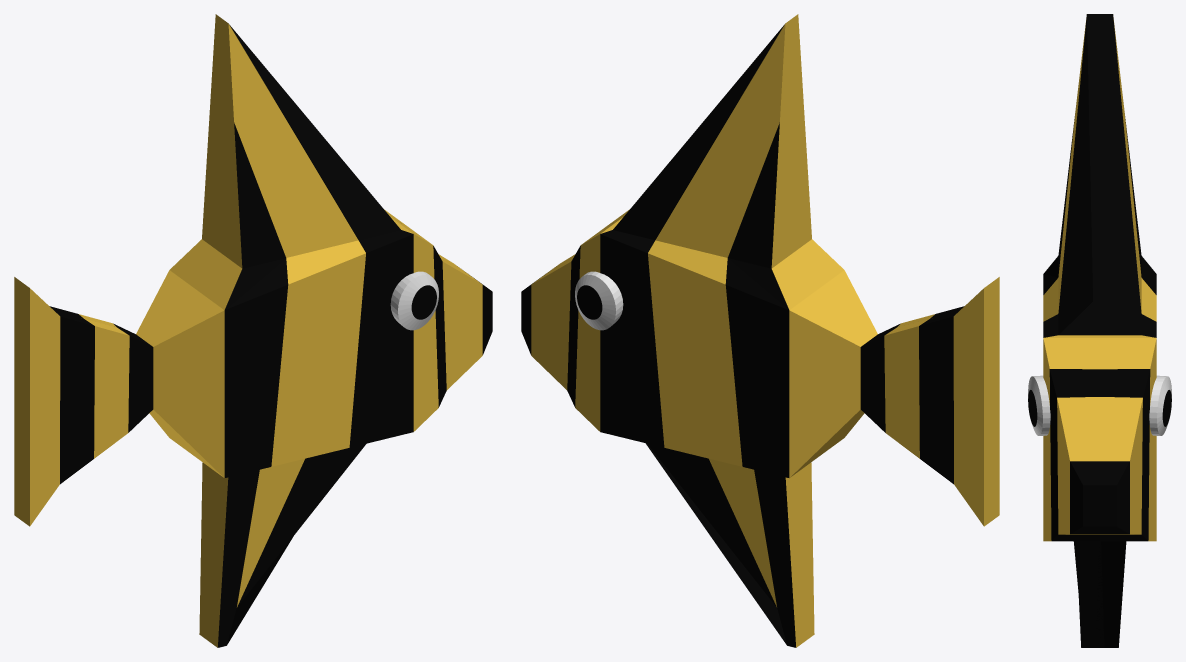
The model's file is angelfish.glb.
3 renders of one model, left to right at view 1: azimuth 30°, elevation 25°; view 2: azimuth 150°, elevation 25°; view 3: azimuth 270°, elevation 25°, orthographic. The views are drawn at different scales.
Visible parts, largest first — view 1: Fish; view 2: Fish; view 3: Fish.
Boxes of the visible parts, x1,y1,x2,y2 form: Fish: (14,14,492,647); Fish: (521,14,999,647); Fish: (1028,14,1171,647).
Size of the model in its own units: 4.88 by 6.25 by 1.28.
